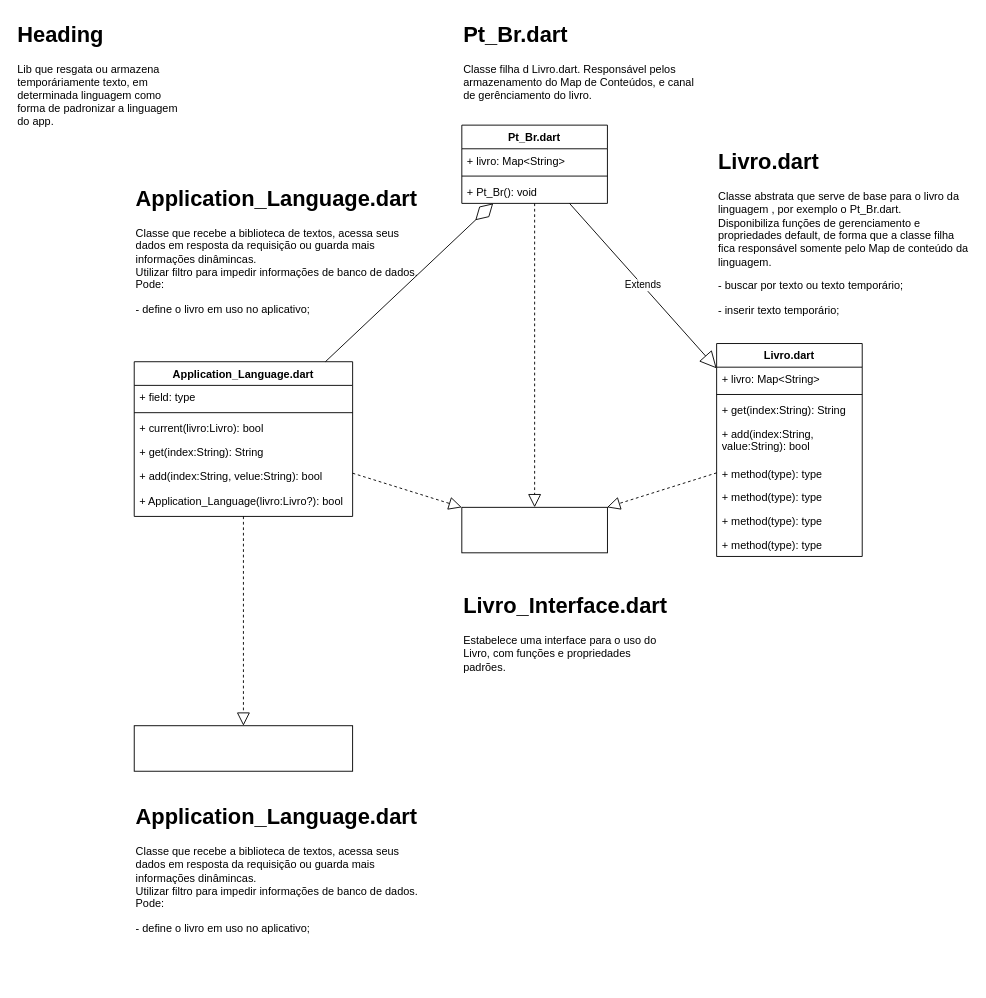
The diagram is 986 pixels wide and 998 high, and some of its shapes have lost their labels. Each missing label, with the centre of its shape:
"«interface» Application_Language_Interface.dart" belongs at point 243,748.
"«interface» Livro_Interface.dart" belongs at point 534,529.
